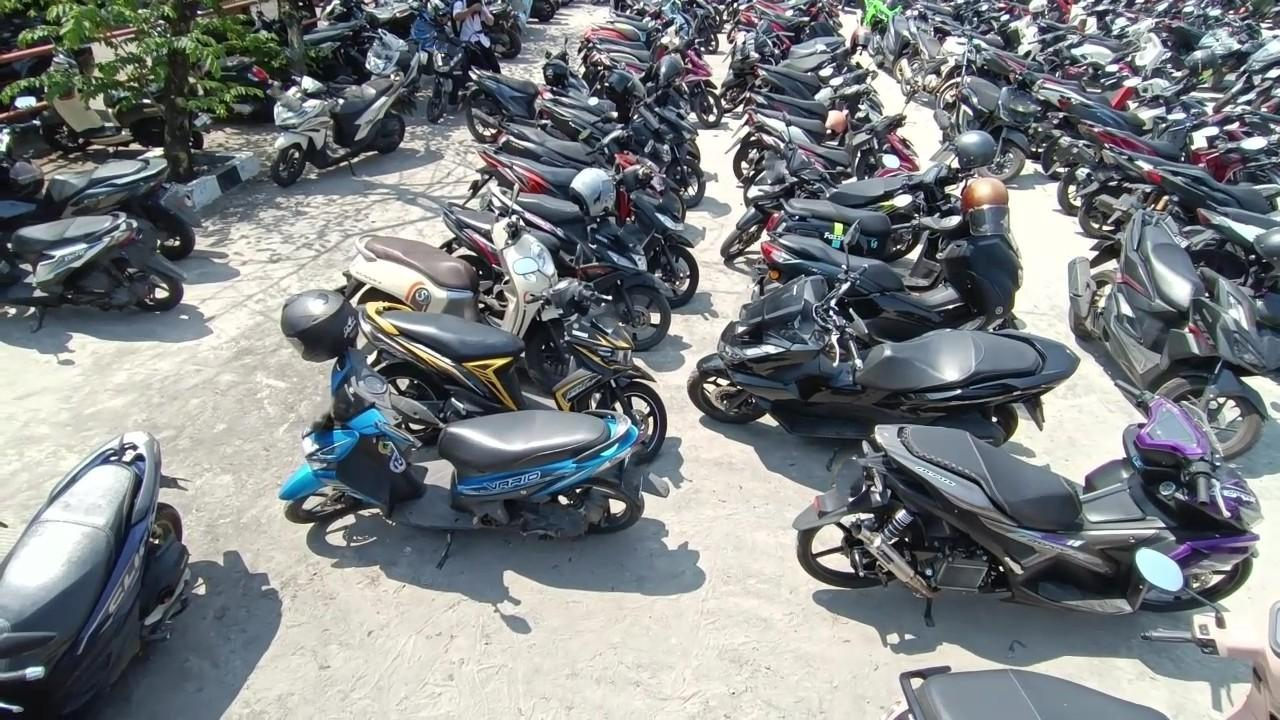motorcycle: (793, 379, 1280, 612), (281, 292, 647, 563), (699, 227, 1077, 450), (347, 254, 669, 467), (1057, 210, 1280, 463), (0, 434, 194, 718), (347, 189, 581, 390), (744, 180, 1026, 345), (433, 171, 671, 350), (743, 131, 1004, 293), (0, 94, 191, 260), (0, 206, 189, 326), (454, 37, 606, 145), (267, 61, 404, 180), (950, 46, 1039, 180), (364, 10, 428, 113)
